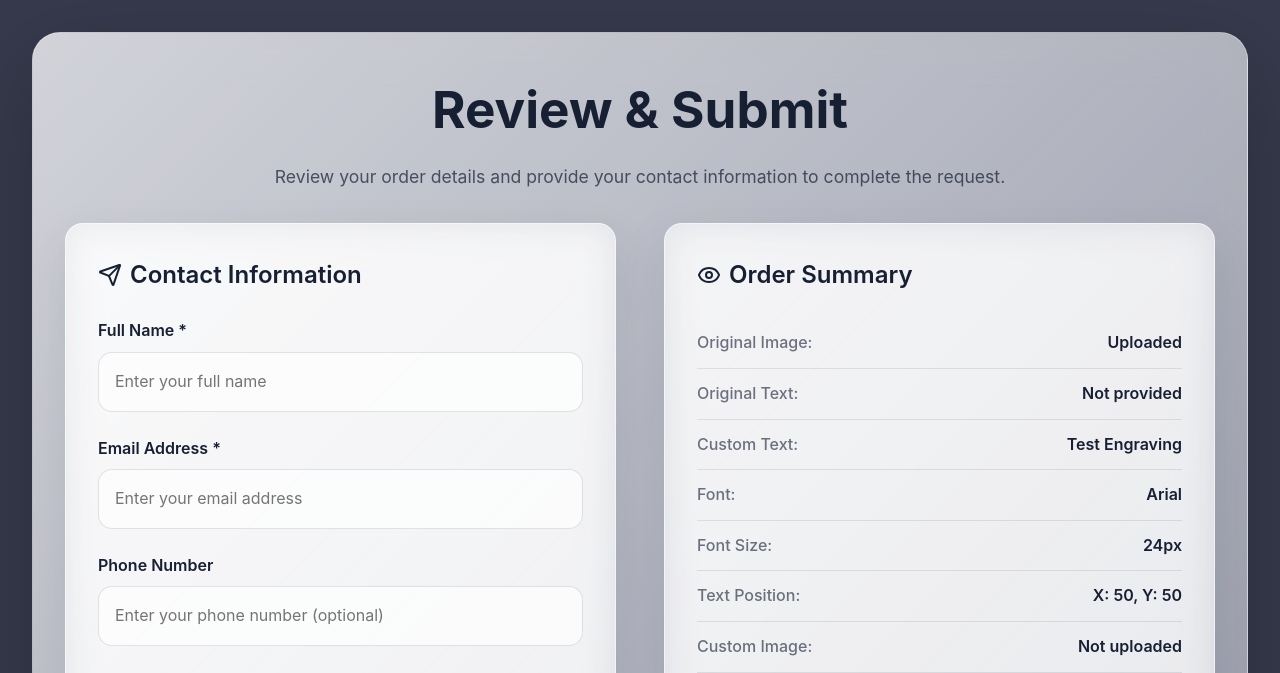
Test: Step3Submit Integration Tests › validates request data before storage
# Fill in required fields with invalid data
Step 1. Type "John Doe" into the field labelled "Full Name *" → (340, 382), box [98,352,583,412]
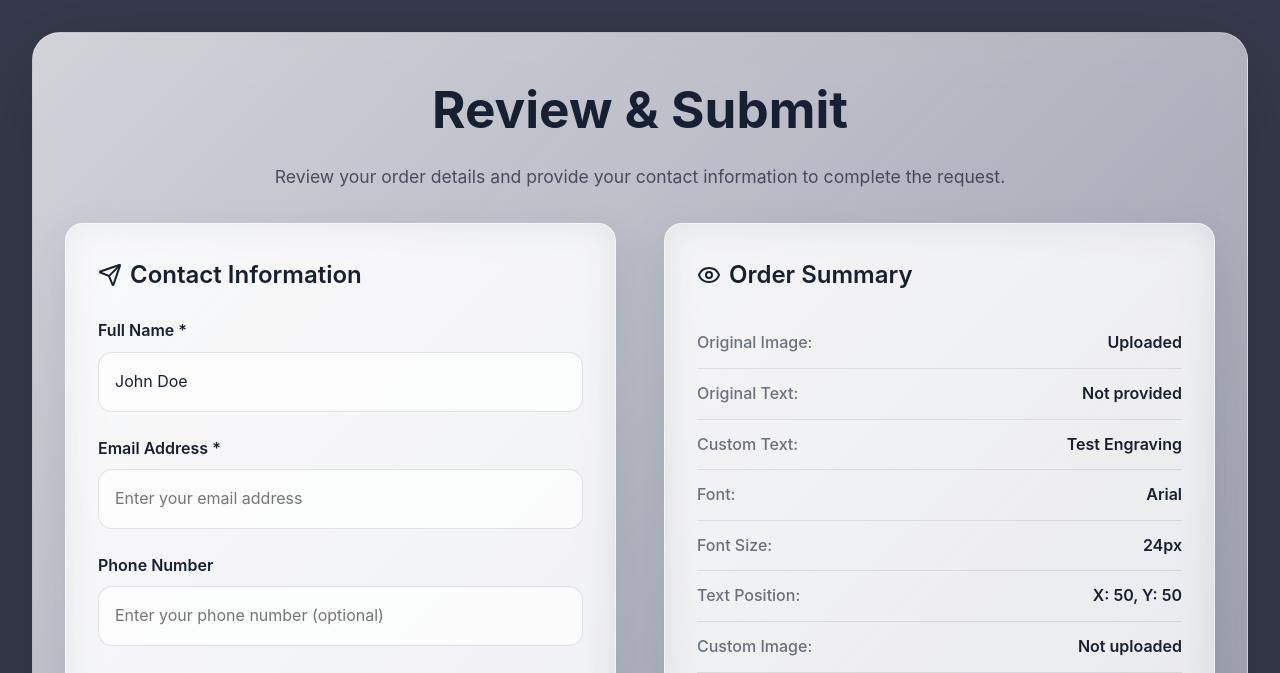
Step 2. Type "invalid-email" into the field labelled "Email Address *" → (340, 499), box [98,469,583,529]
(page scrolled)
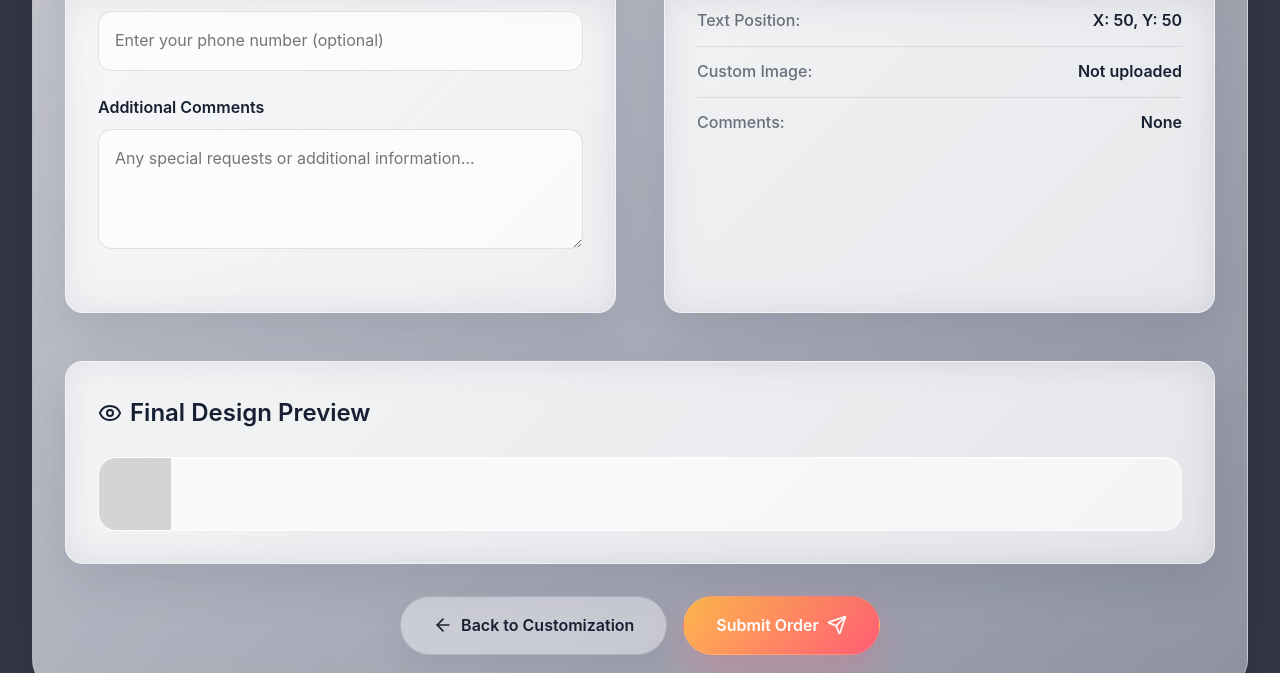
Step 3. Click the button "Submit Order" → (782, 625), box [683,596,880,655]
(page scrolled)
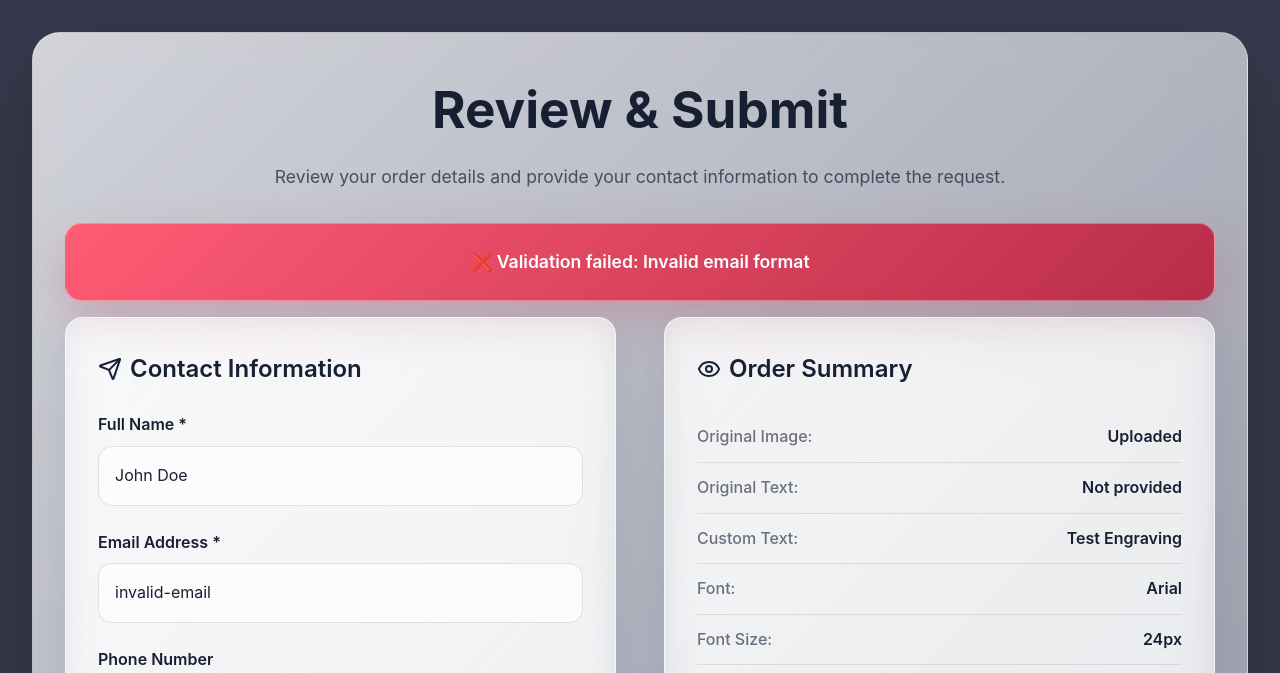
Now the text "❌ Validation failed: Invalid email format" is shown, box [65,223,1215,301]
